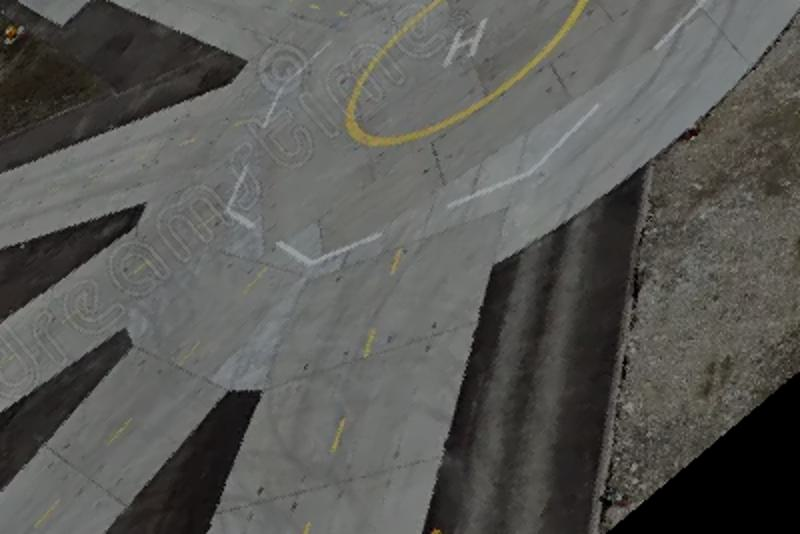Apron: (341, 1, 590, 152)
